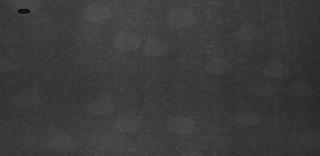punching hole: (15, 7, 31, 15)
